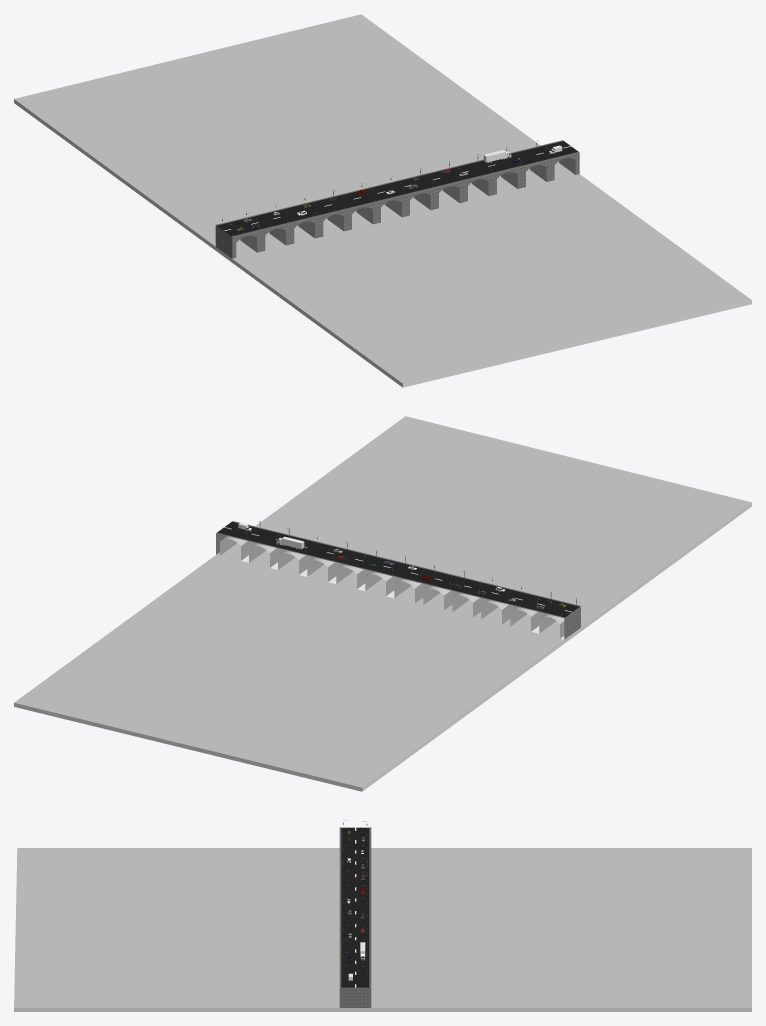
Rendered from bridge3.dae.
The picture shows the model from 3 angles, top to bottom: view 1: azimuth 30°, elevation 25°; view 2: azimuth 150°, elevation 25°; view 3: azimuth 270°, elevation 25°; orthographic projection. The views are drawn at different scales.
Visible parts, largest first — view 1: SketchUp (×4); view 2: SketchUp (×3); view 3: SketchUp (×6).
Part boxes in pixels (x1,y1,x2,y2): SketchUp (×4): (14,14,751,387); SketchUp (×3): (14,416,751,791); SketchUp (×6): (14,827,751,1011).
Bounding box in the file's own units: 8640 × 16827 × 847.
